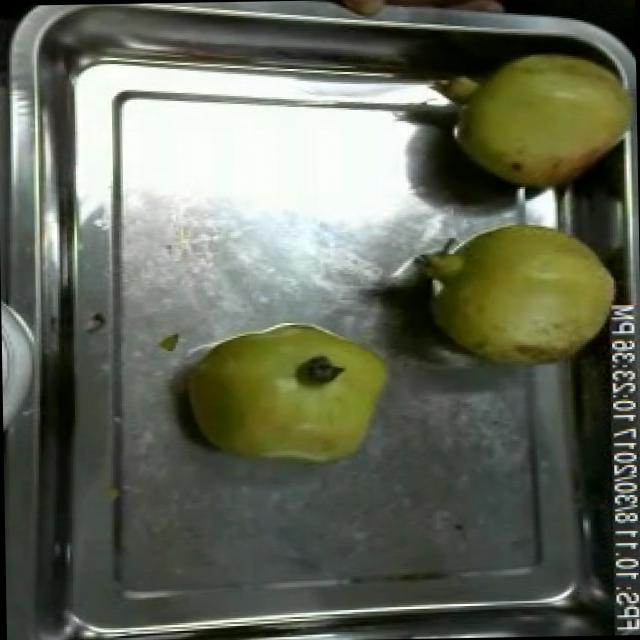fruit: (171, 312, 400, 480), (410, 206, 628, 376), (427, 41, 638, 202), (316, 0, 406, 22)
